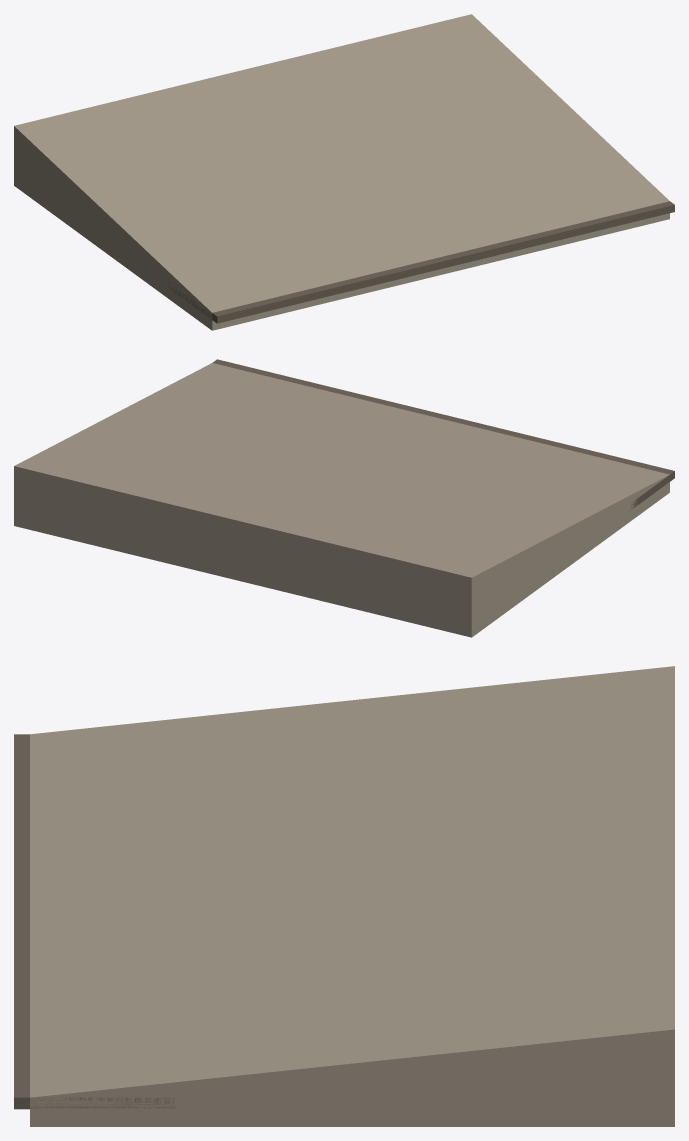
The model's file is f02-bank-shingle-shelf.glb.
The picture shows the model from 3 angles, top to bottom: view 1: azimuth 30°, elevation 25°; view 2: azimuth 150°, elevation 25°; view 3: azimuth 270°, elevation 25°; orthographic projection. The views are drawn at different scales.
Parts seen in each view (by area): view 1: part0, part1; view 2: part0, part1; view 3: part0, part1.
Boxes of the visible parts, left/top/right/bottom form: part0: left=14, top=14, right=669, bottom=330; part1: left=167, top=201, right=674, bottom=323; part0: left=14, top=363, right=669, bottom=637; part1: left=212, top=359, right=674, bottom=510; part0: left=30, top=666, right=674, bottom=1126; part1: left=14, top=734, right=175, bottom=1109.
Bounding box in the file's own units: 8000 × 1000 × 6150.
